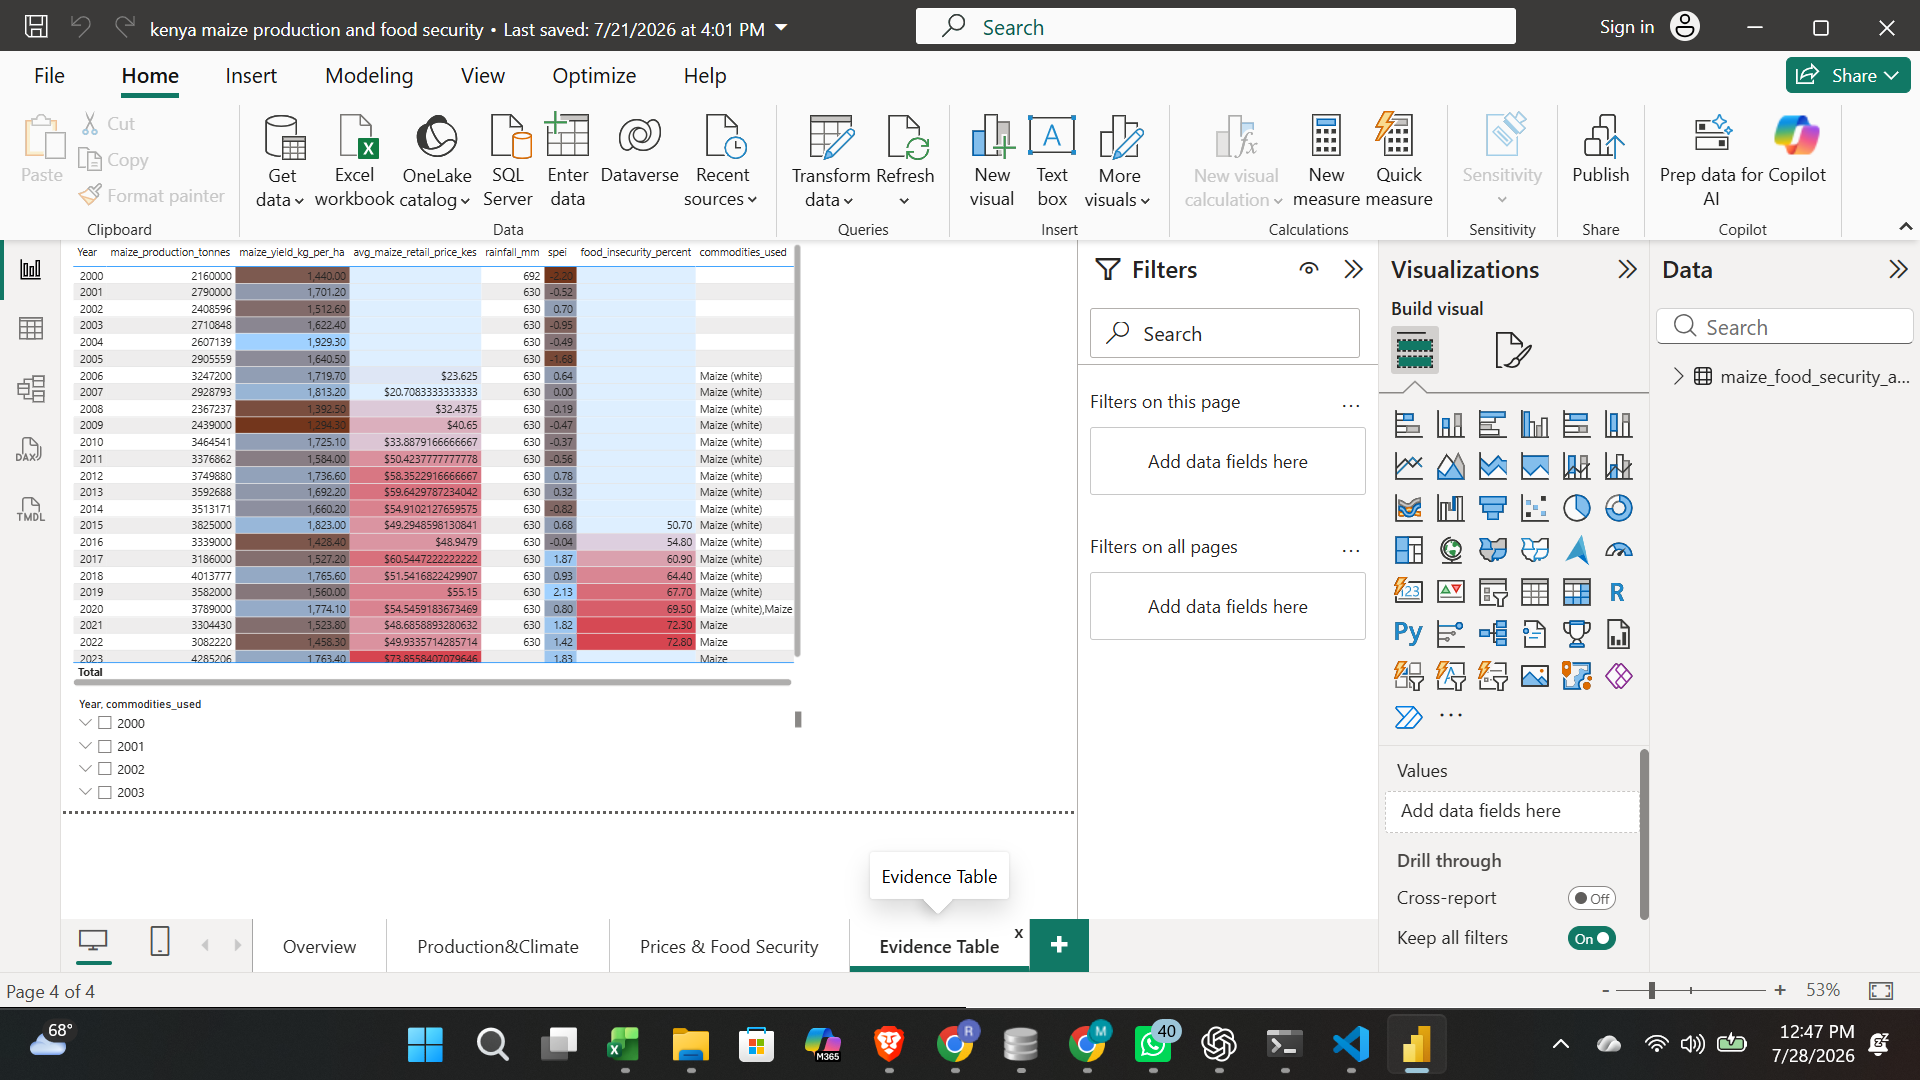

What the dashboard file says about the page in this screenshot:
{"tool":"powerbi","page":{"name":"Evidence Table","canvas":[1280,720],"ordinal":3},"visuals":[{"type":"tableEx","fields":{"Values":["maize_food_security_analysis.Year","maize_food_security_analysis.maize_production_tonnes","maize_food_security_analysis.maize_yield_kg_per_ha","maize_food_security_analysis.avg_maize_retail_price_kes","maize_food_security_analysis.rainfall_mm","maize_food_security_analysis.spei","maize_food_security_analysis.food_insecurity_percent","maize_food_security_analysis.commodities_used"]},"box":[9.7,0,927.8,566.7],"z":0},{"type":"slicer","fields":{"Values":["maize_food_security_analysis.Year","maize_food_security_analysis.commodities_used"]},"box":[10,570,928,150],"z":1}]}

Visuals, with their boxes on the page's 1280x720 design canvas (x1, y1, x2, y2). These are canvas units, not pixel positions in the 1920x1080 screenshot, which may show the page scaled, cropped or inside an application window:
tableEx - maize_food_security_analysis.Year x maize_food_security_analysis.maize_production_tonnes: 10:0:938:567
slicer - maize_food_security_analysis.Year x maize_food_security_analysis.commodities_used: 10:570:938:720
